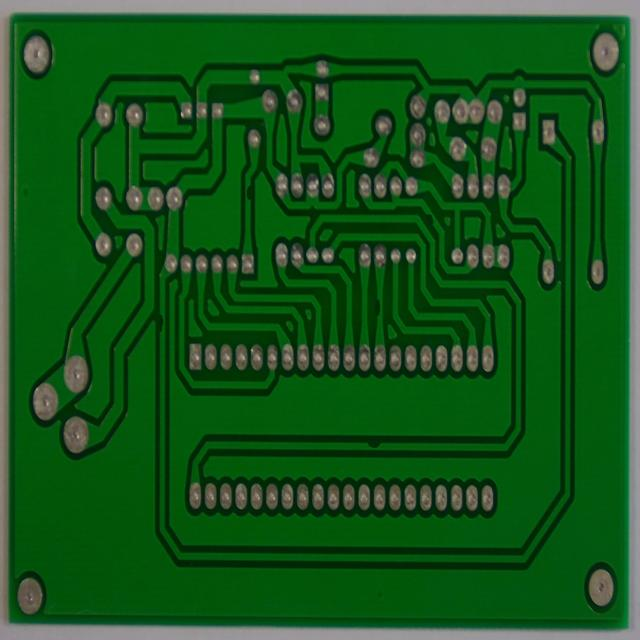mouse_bite: (373, 293, 385, 322), (363, 437, 382, 455), (155, 308, 166, 339), (241, 181, 253, 207), (424, 209, 437, 229)
